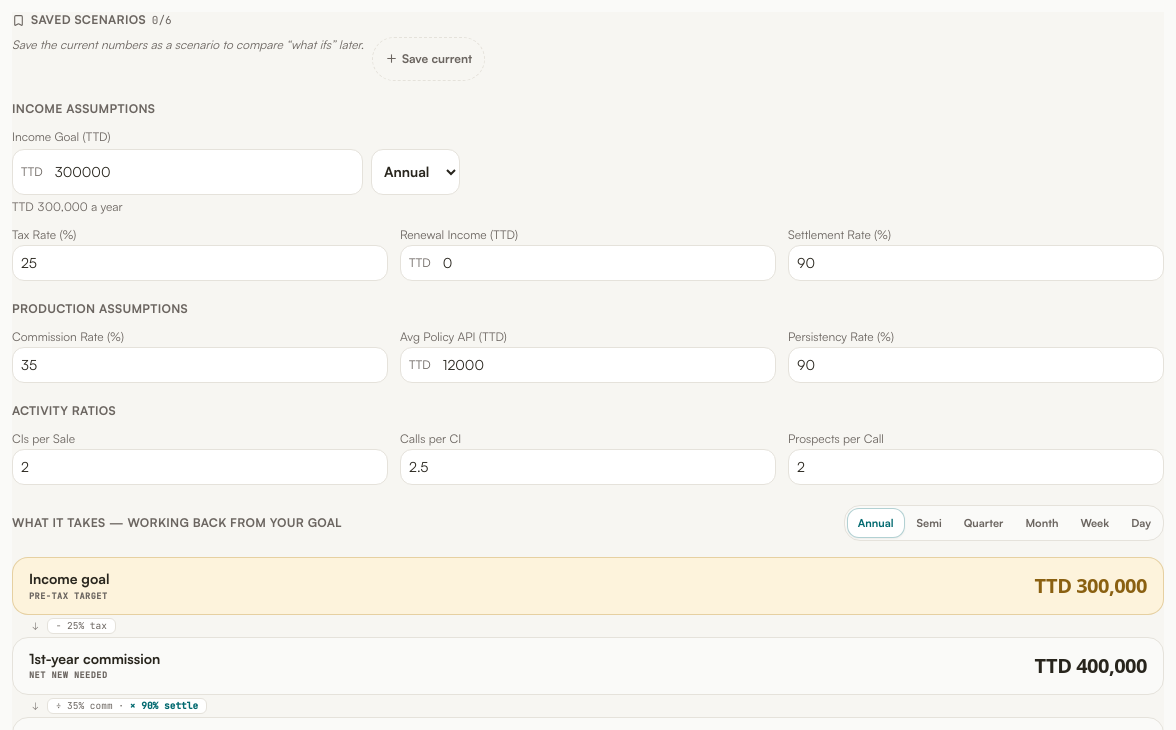
GoalDecompositionTab — R2-3 income goal period › TTD 50,000 a month → annual TTD 500,000, and the Month chip shows TTD 50,000
Replace the text in the number field labelled "Income Goal (TTD)" with "50000": (204, 172) 47,150 -> 362,194
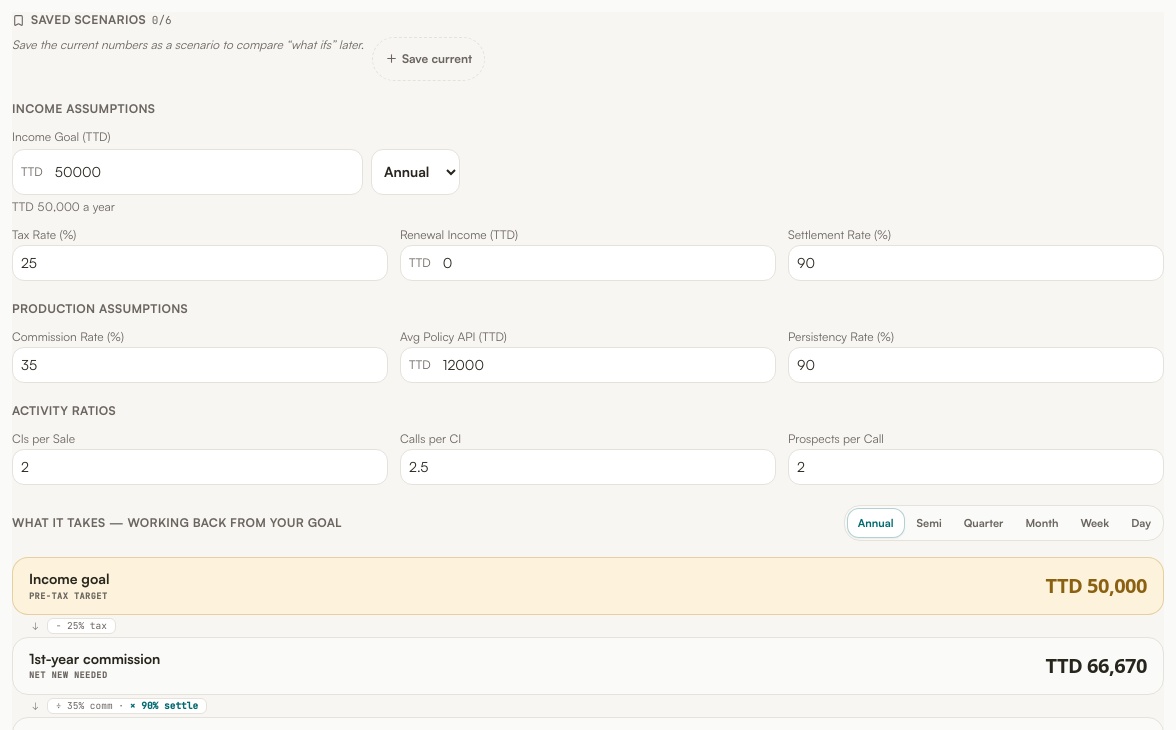
Select "Month" in the dropdown named "goal period": (416, 172) 371,148 -> 460,194
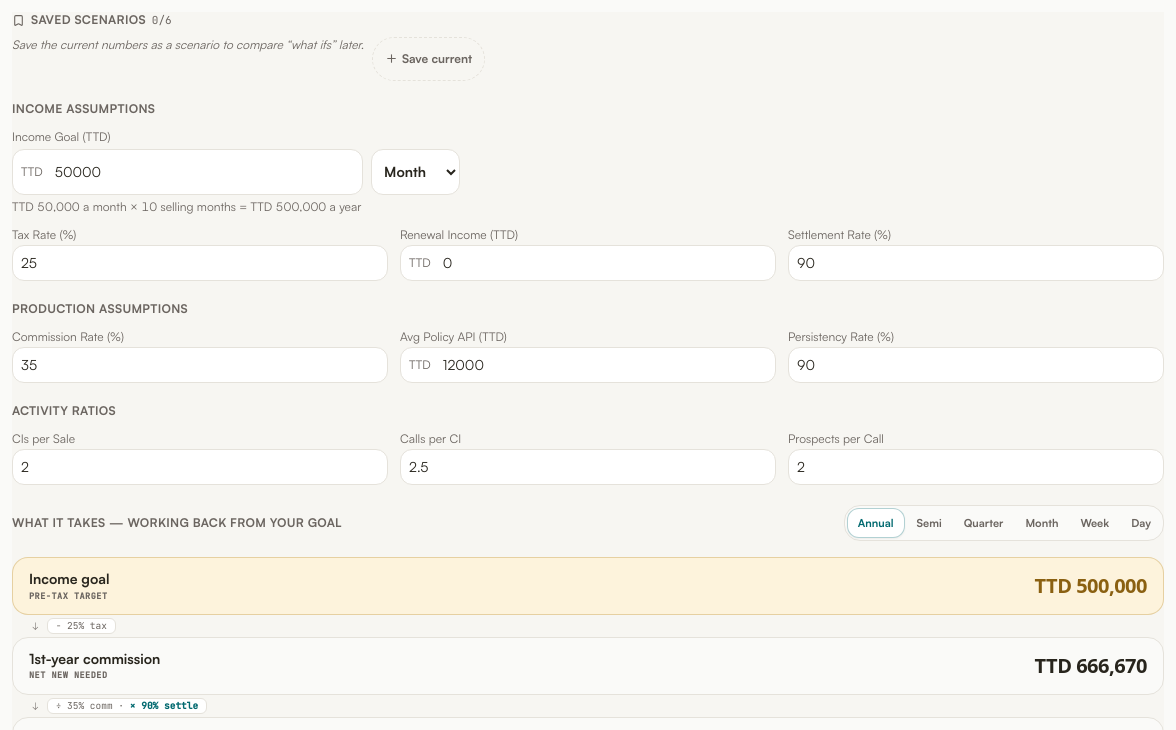
Expected: the text with test id "income-goal-conversion" reads "TTD 50,000 a month × 10 selling months = TTD 500,000 a year", 12,198 -> 361,214
Expected: the element with test id "commission-ladder-stage" shows "TTD 500,000", 1035,572 -> 1147,599
Click the button "Month": click(1042, 523) 1015,508 -> 1068,538
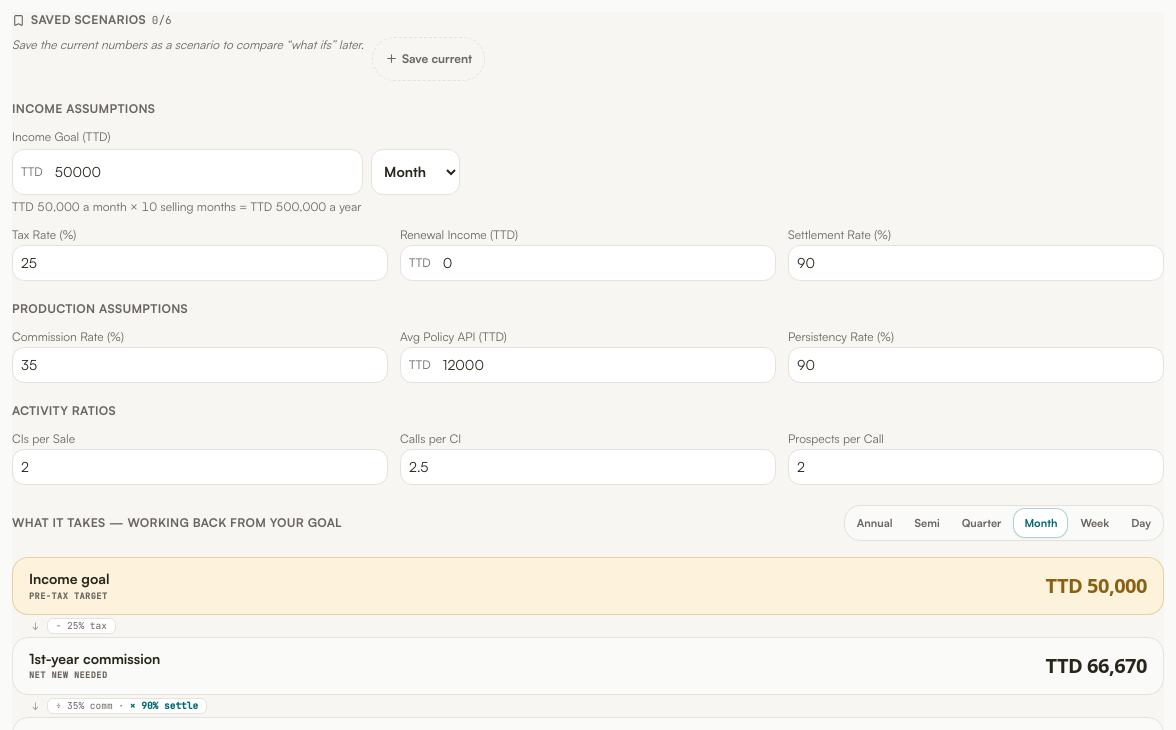
Expected: the element with test id "commission-ladder-stage" does not show "TTD 500,000"
Expected: the element with test id "commission-ladder-stage" shows "TTD 50,000", 1046,572 -> 1147,599
